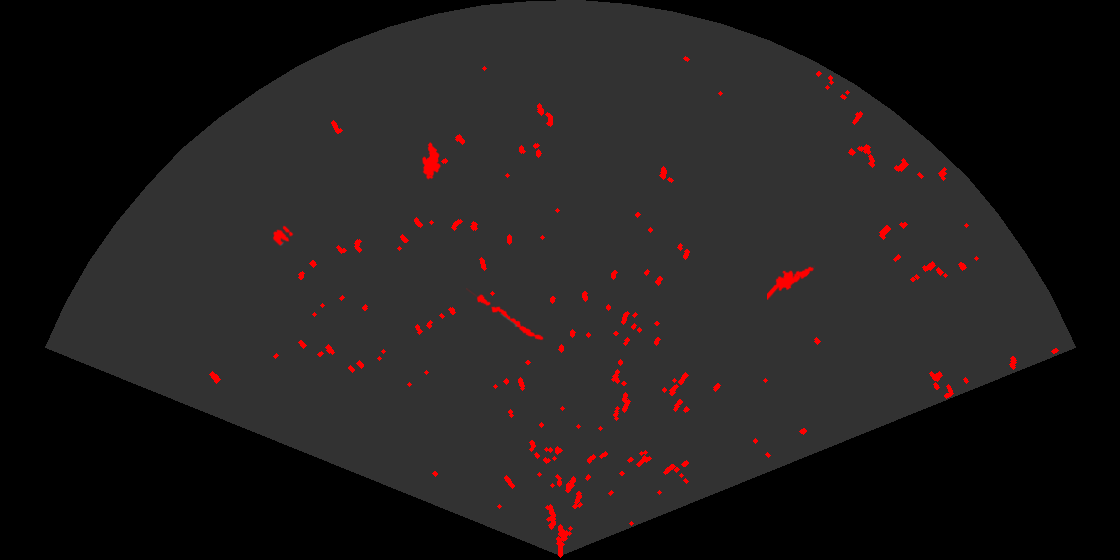AUV: (421, 140, 443, 181)
ball: (271, 224, 295, 247)
chain: (466, 288, 545, 342)
frogman: (767, 264, 815, 300)
